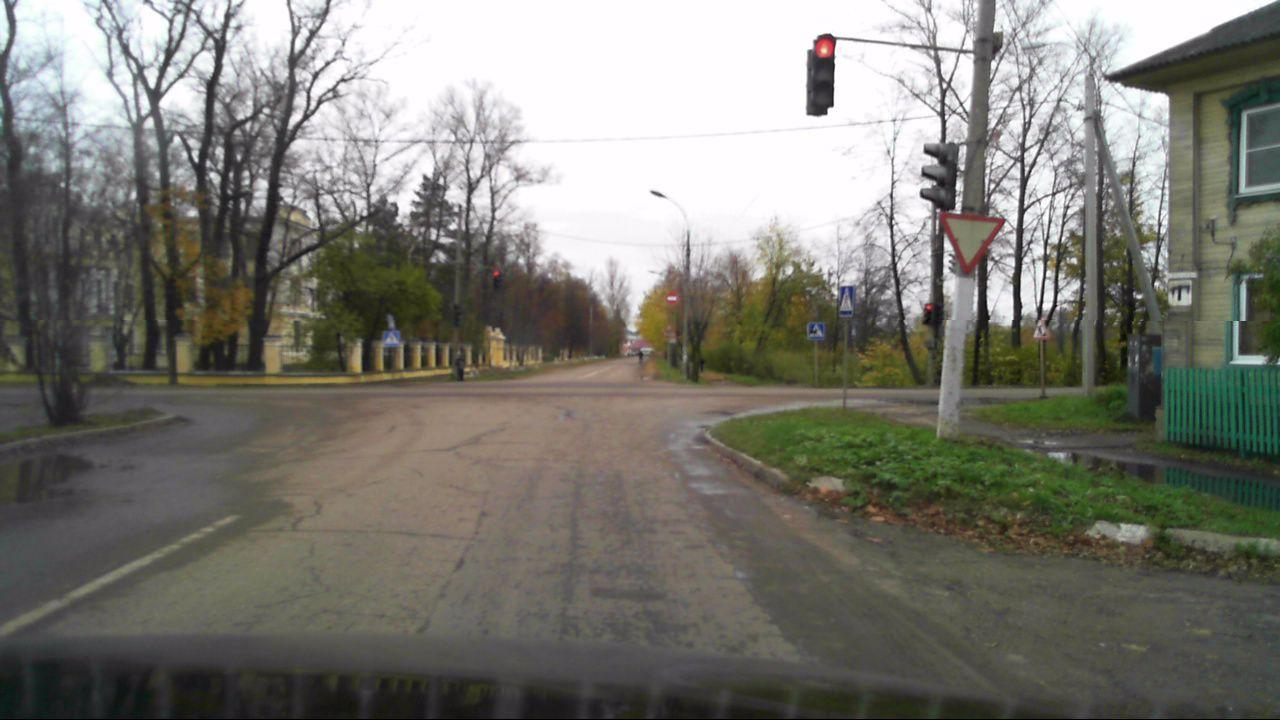1_25: (1033, 317, 1048, 340)
2_4: (940, 210, 1005, 273)
3_1: (664, 289, 679, 305)
5_19_1: (839, 285, 856, 317), (805, 322, 824, 341)
5_19_2: (383, 331, 400, 347)
